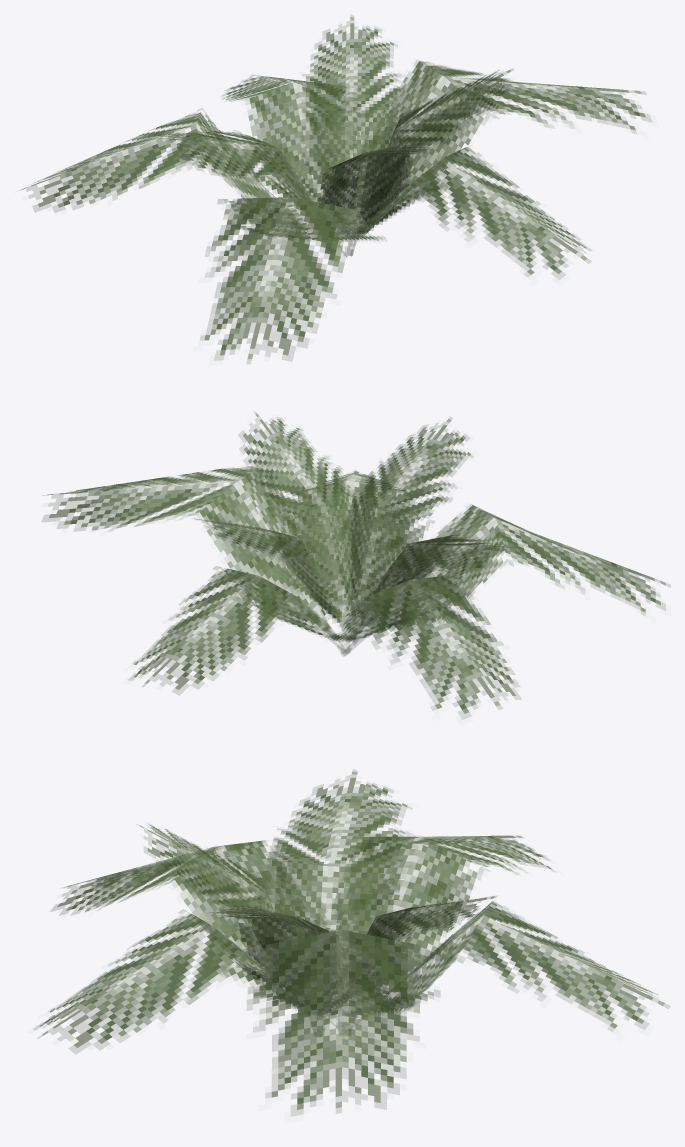
The model's file is sbushtro_1.glb.
3 renders of one model, top to bottom at view 1: azimuth 30°, elevation 25°; view 2: azimuth 150°, elevation 25°; view 3: azimuth 270°, elevation 25°, orthographic. The views are drawn at different scales.
Parts seen in each view (by area): view 1: sbushtro_1; view 2: sbushtro_1; view 3: sbushtro_1.
Boxes of the visible parts, x1=… form: sbushtro_1: x1=19, y1=15, x2=651, y2=363; sbushtro_1: x1=41, y1=412, x2=670, y2=719; sbushtro_1: x1=33, y1=769, x2=669, y2=1116.
Size of the model in its own units: 3.86 by 1.29 by 3.4.
1 material, 1 textured.
